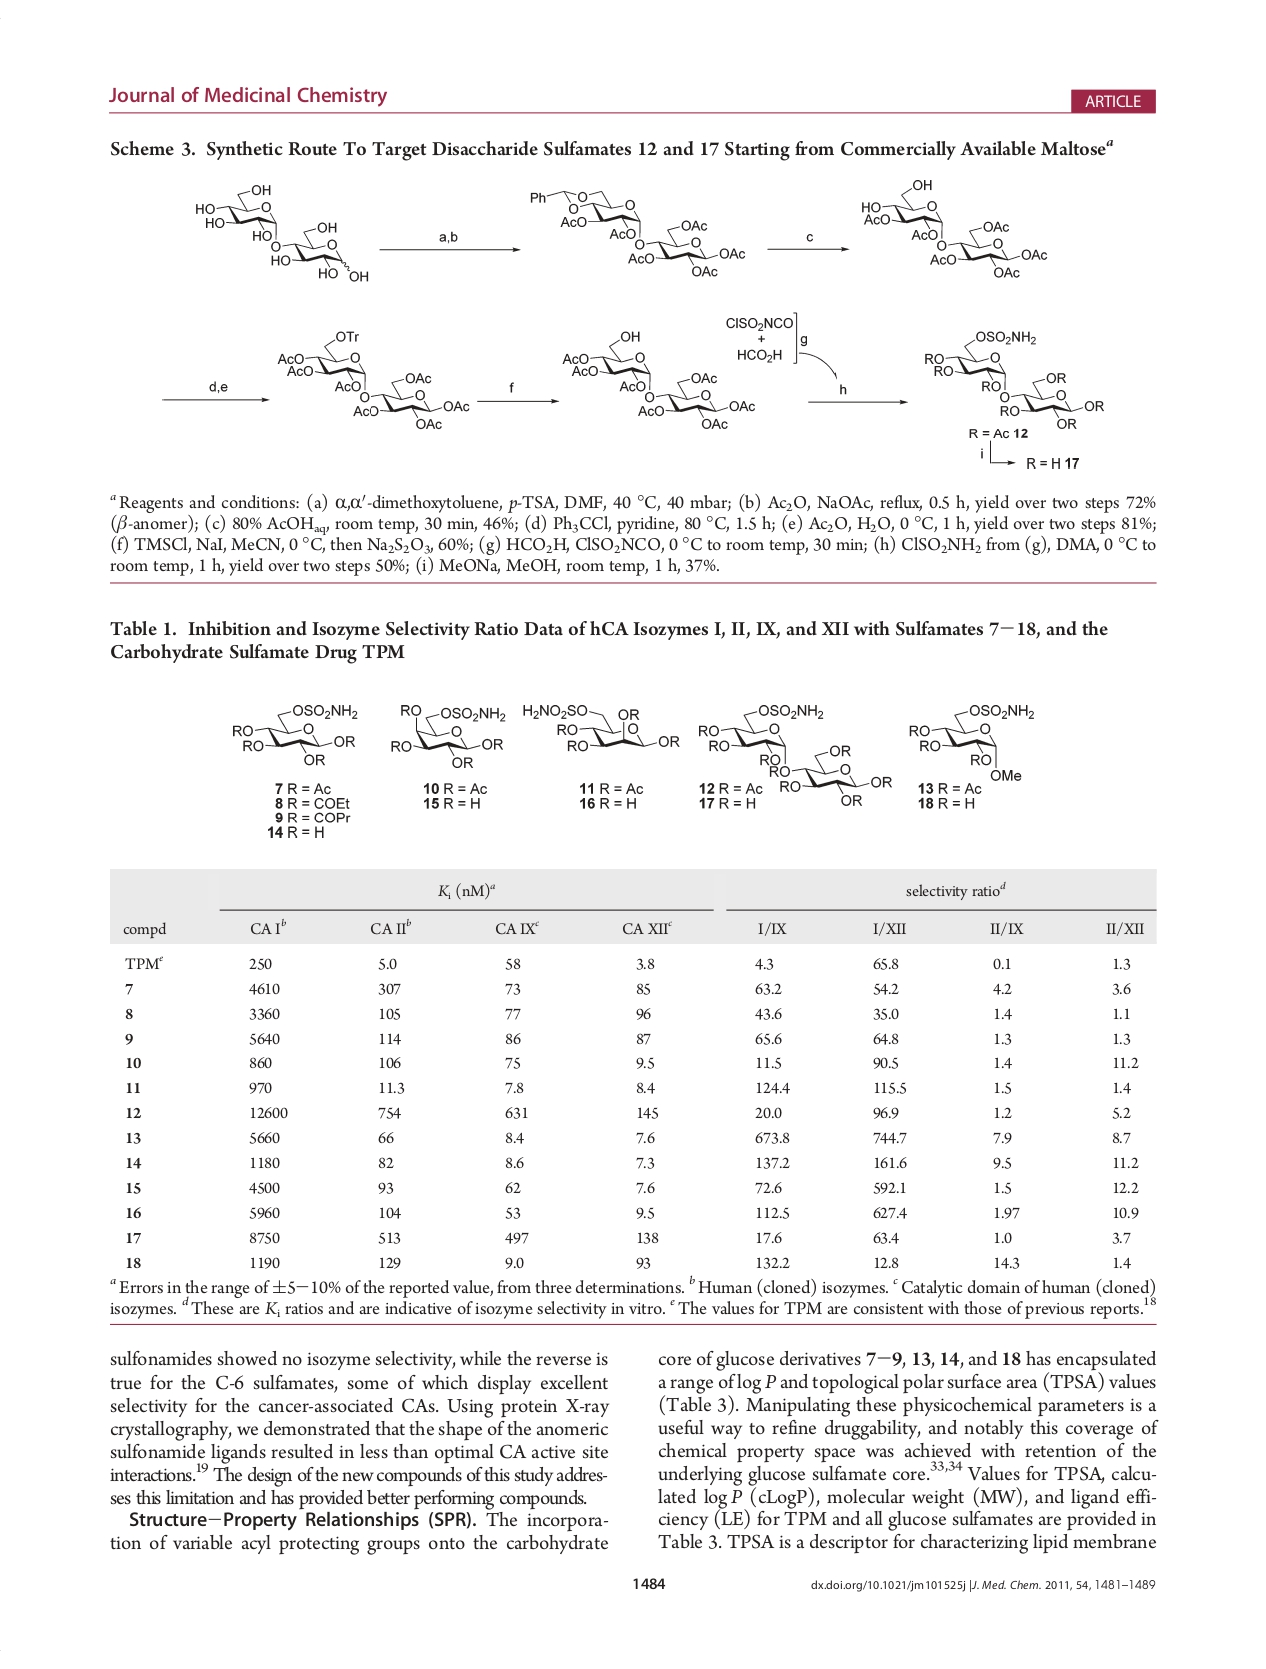exist_molecular: (525, 184, 750, 285), (698, 701, 894, 807), (856, 176, 1049, 283), (560, 328, 757, 434), (274, 328, 471, 431), (191, 180, 372, 289), (923, 324, 1105, 430), (908, 700, 1037, 781), (520, 694, 681, 757), (231, 697, 358, 771), (387, 700, 505, 771)
